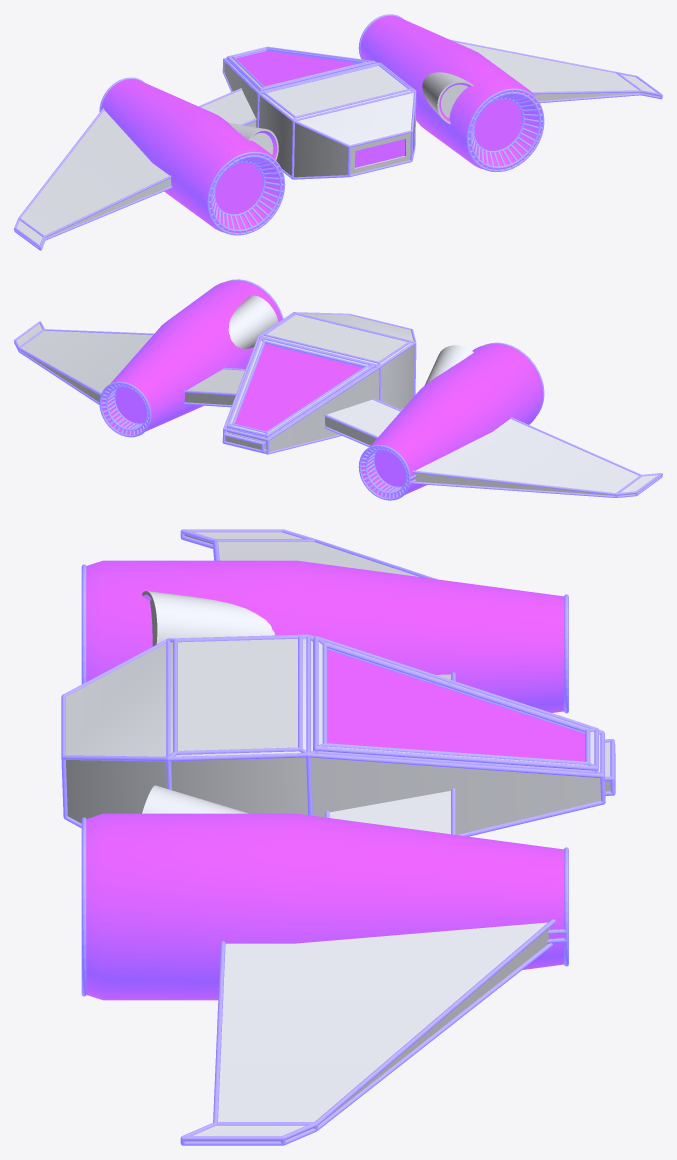
The model's file is vehicle.fbx.
The picture shows the model from 3 angles, top to bottom: view 1: azimuth 30°, elevation 25°; view 2: azimuth 150°, elevation 25°; view 3: azimuth 270°, elevation 25°; orthographic projection. The views are drawn at different scales.
Visible parts, largest first — view 1: engine_3, body, wing_3, engine, body_3, wing, side_engine, wing_connector_3; view 2: engine_3, body, wing_3, body_3, wing_connector_3, engine, wing, side_engine, wing_connector; view 3: engine_3, body, wing_3, body_3, wing, side_engine, engine, wing_connector_3.
Part boxes in pixels (x1,y1,x2,y2): engine_3: (101,15,541,232); body: (224,51,414,177); wing_3: (17,42,659,244); engine: (99,14,544,235); body_3: (222,46,416,179); wing: (14,39,662,250); side_engine: (229,72,473,159); wing_connector_3: (201,90,256,127); engine_3: (102,280,542,498); body: (225,313,414,451); wing_3: (16,324,657,495); body_3: (222,312,416,454); wing_connector_3: (184,369,400,445); engine: (99,279,544,500); wing: (14,321,662,497); side_engine: (228,295,473,385); wing_connector: (183,367,401,446); engine_3: (86,560,564,1000); body: (66,638,610,834); wing_3: (184,532,550,1141); body_3: (61,634,615,836); wing: (180,529,555,1145); side_engine: (142,591,274,813); engine: (81,564,568,996); wing_connector_3: (329,674,450,834).
Bounding box in the file's own units: 295 × 39.29 × 113.
